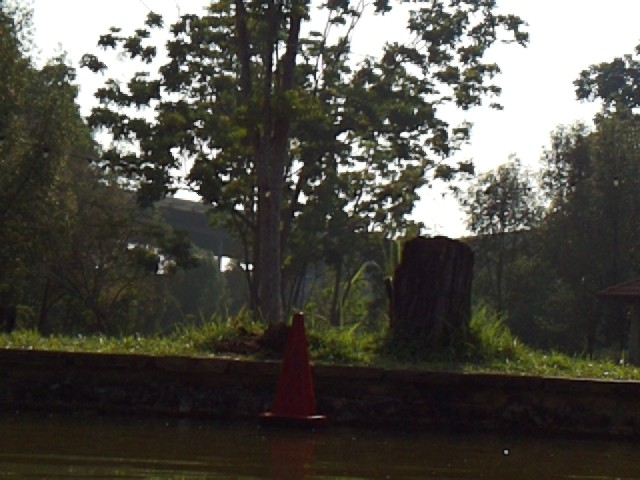obstacle: (262, 311, 329, 429)
